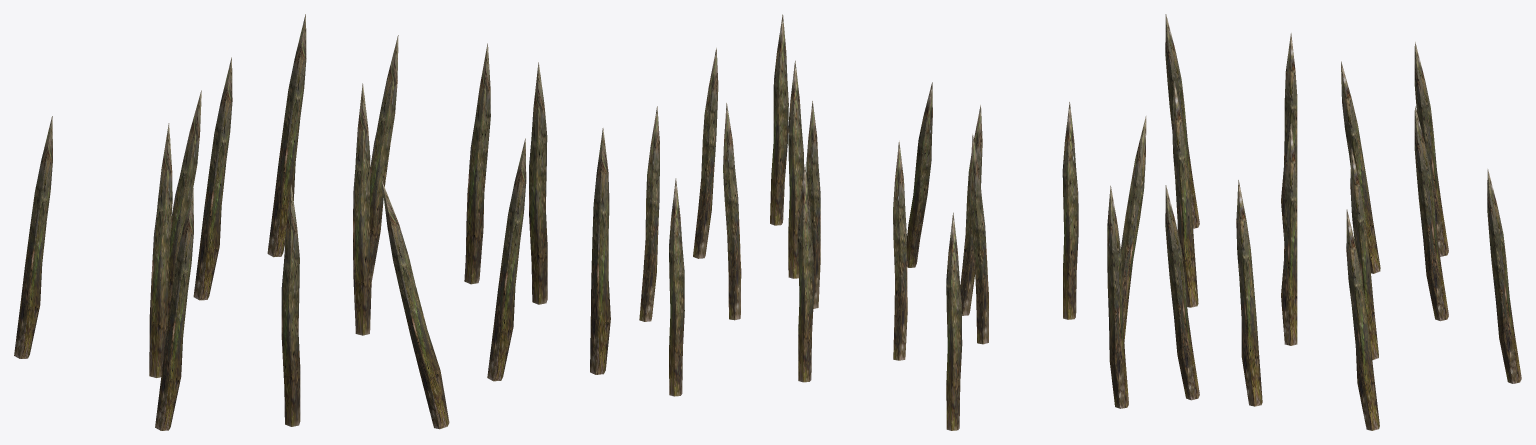
File: Punji_Pit.fbx
The picture shows the model from 3 angles, left to right: view 1: azimuth 30°, elevation 25°; view 2: azimuth 150°, elevation 25°; view 3: azimuth 270°, elevation 25°; orthographic projection. The views are drawn at different scales.
Visible parts, largest first — view 1: Punji11, Punji12, Punji10, Punji7, Punji9, Punji8, Punji1, Punji, Punji6, Punji13, Punji5, Punji4 (+2 smaller); view 2: Punji9, Punji8, Punji10, Punji13, Punji12, Punji2, Punji4, Punji5, Punji3, Punji7, Punji1, Punji11 (+2 smaller); view 3: Punji5, Punji4, Punji12, Punji10, Punji7, Punji13, Punji, Punji6, Punji11, Punji2, Punji9, Punji3 (+2 smaller).
Boxes of the visible parts, x1,y1,x2,y2 form: Punji11: (381,181,449,429); Punji12: (590,128,610,374); Punji10: (193,57,232,300); Punji7: (487,138,526,381); Punji9: (14,116,52,358); Punji8: (155,188,193,430); Punji1: (149,123,172,377); Punji: (353,83,371,335); Punji6: (281,184,300,426); Punji13: (267,14,306,257); Punji5: (529,62,547,304); Punji4: (464,43,490,284); Punji9: (946,212,962,430); Punji8: (1062,102,1078,319); Punji10: (798,164,813,382); Punji13: (669,178,684,396); Punji12: (770,14,788,225); Punji2: (893,141,907,360); Punji4: (639,106,659,321); Punji5: (693,48,718,258); Punji3: (723,103,741,320); Punji7: (788,60,803,278); Punji1: (969,134,988,344); Punji11: (907,82,932,267); Punji5: (1236,180,1262,406); Punji4: (1346,209,1379,430); Punji12: (1107,185,1128,408); Punji10: (1414,106,1448,321); Punji7: (1165,185,1199,400); Punji13: (1487,169,1521,383); Punji: (1281,123,1297,345); Punji6: (1172,81,1198,307); Punji11: (1121,116,1146,341); Punji2: (1341,61,1380,273); Punji9: (1414,42,1448,256); Punji3: (1350,148,1378,360).
Bounding box in the file's own units: 11.34 × 7.13 × 10.8.
1 material, 1 textured.
